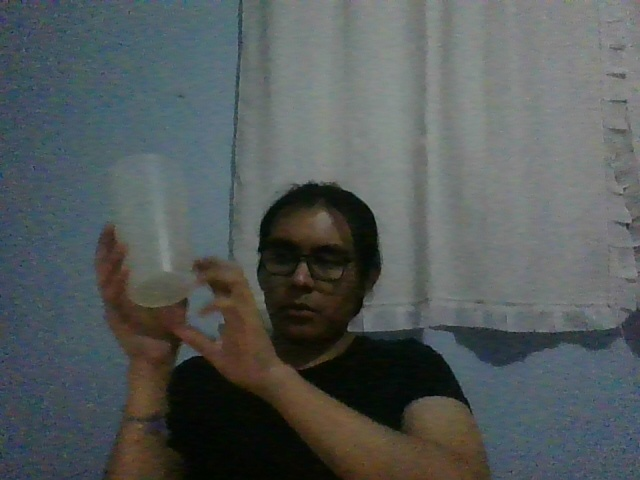vaso: (107, 153, 197, 308)
